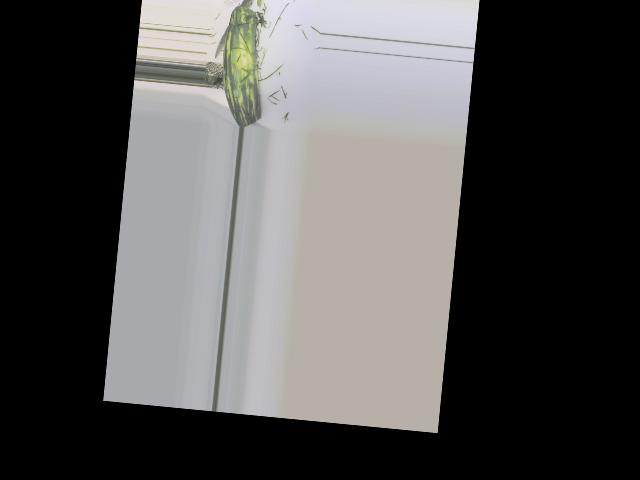cucumber: (217, 4, 272, 128)
